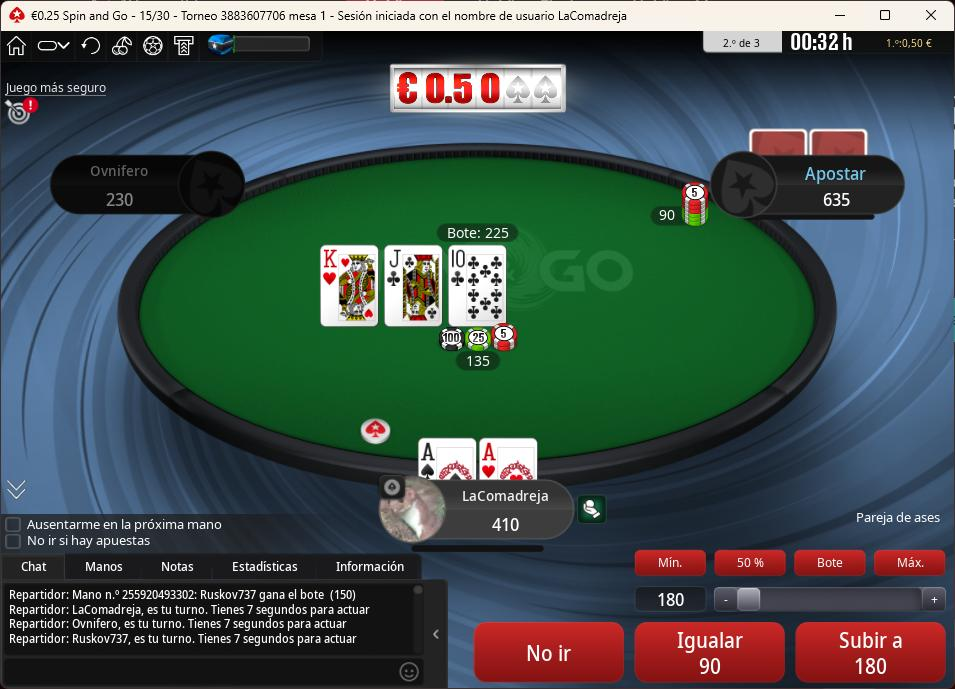ButtonCall: (627, 616, 785, 687)
ButtonCheck: (632, 618, 790, 689)
ButtonFold: (470, 618, 626, 686)
ButtonMaxRaise: (871, 545, 947, 580)
ButtonMinRaise: (634, 550, 709, 578)
ButtonPotRaise: (793, 547, 867, 576)
ButtonRaise: (793, 620, 949, 688)
Dealer: (360, 411, 397, 448)
HiddenCards: (745, 129, 868, 158)
Player: (47, 150, 245, 214), (718, 156, 910, 220)
PlayerBet: (647, 178, 712, 236)
PlayerChips: (97, 183, 144, 210), (822, 189, 856, 212)
Pot: (436, 222, 518, 241)
PrincipalCards: (414, 434, 537, 485)
PrincipalCards1: (417, 435, 477, 483)
PrincipalCards2: (478, 436, 538, 484)
PrincipalPlayer: (372, 471, 571, 545)
ShowedCards: (315, 243, 513, 330)
ShowedCards1: (319, 245, 384, 331)
ShowedCards2: (384, 246, 446, 330)
ShowedCards3: (447, 247, 510, 331)
SmallBigBlind: (127, 3, 180, 29)
TablePot: (420, 326, 526, 379)
